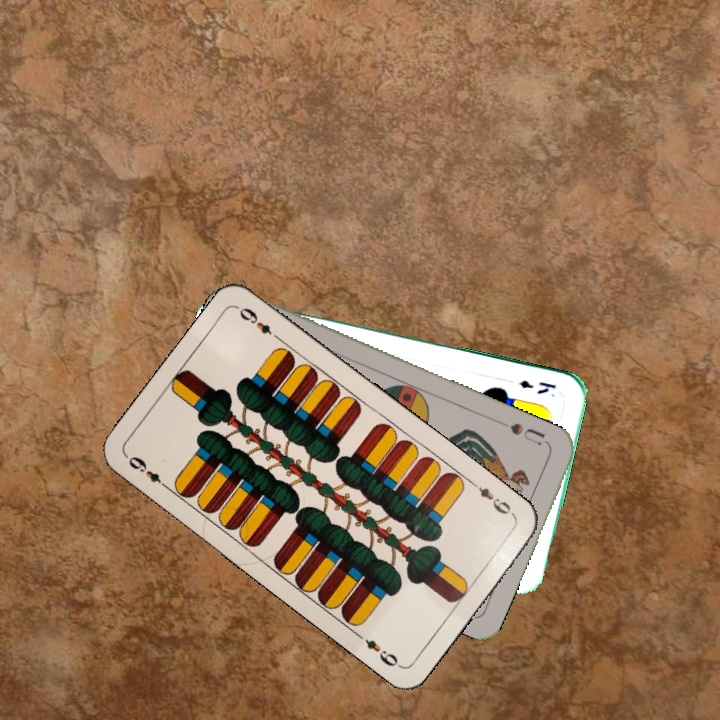E9: (467, 478, 518, 520), (124, 452, 173, 493)
EK: (515, 376, 559, 397)
SU: (496, 417, 552, 449)
